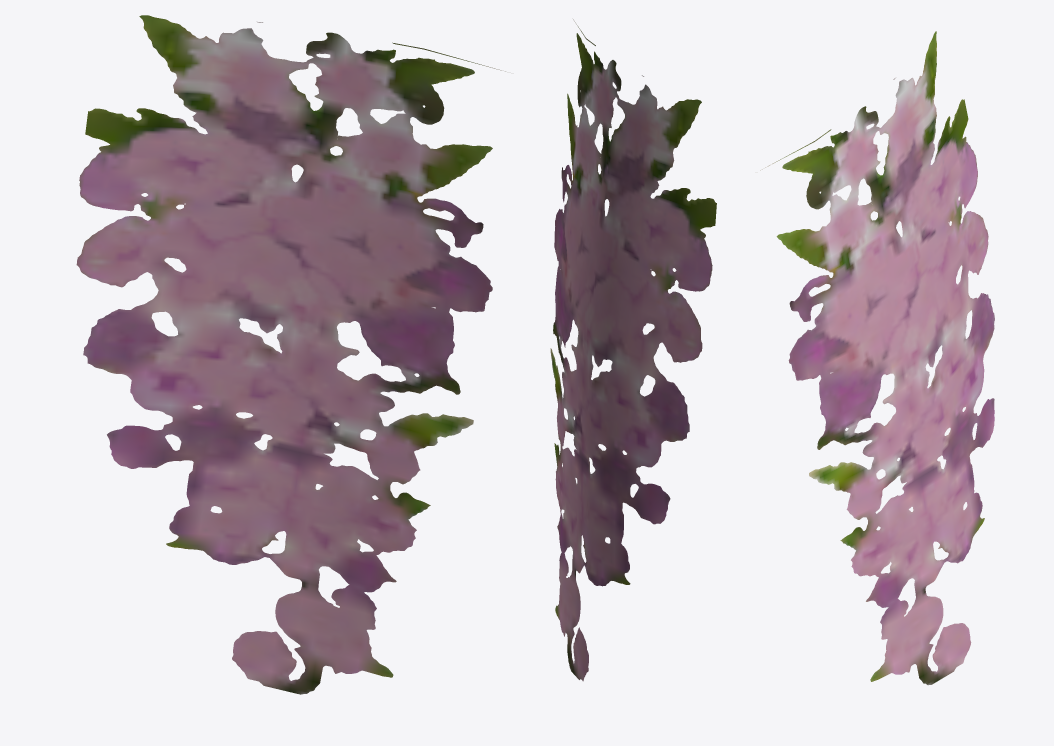
Rendered from liemo_plant_10 (14).fbx.
3 views of the same model, side by side, from view 1: azimuth 30°, elevation 25°; view 2: azimuth 150°, elevation 25°; view 3: azimuth 270°, elevation 25° (orthographic). The views are drawn at different scales.
Visible parts, largest first — view 1: liemo_plant_10 (14); view 2: liemo_plant_10 (14); view 3: liemo_plant_10 (14).
Part boxes in pixels (x1,y1,x2,y2): liemo_plant_10 (14): (76, 15, 505, 694); liemo_plant_10 (14): (550, 19, 716, 681); liemo_plant_10 (14): (760, 31, 994, 685).
Size of the model in its own units: 0.6743 by 1.44 by 0.6147.
